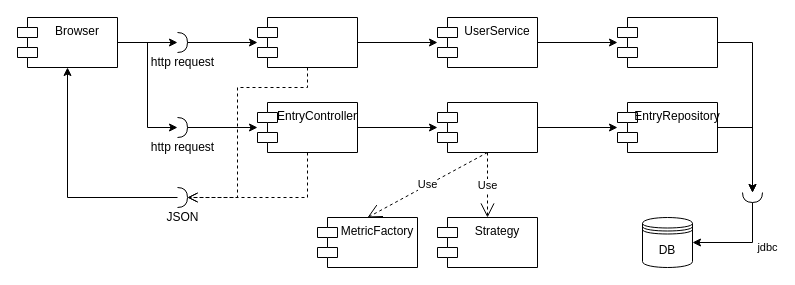
This 795x285 diagram has some shape labels left out. Each missing label, with the centre of its shape:
EntryService: pixel 487 127
UserController: pixel 307 42
UserRepository: pixel 667 42
